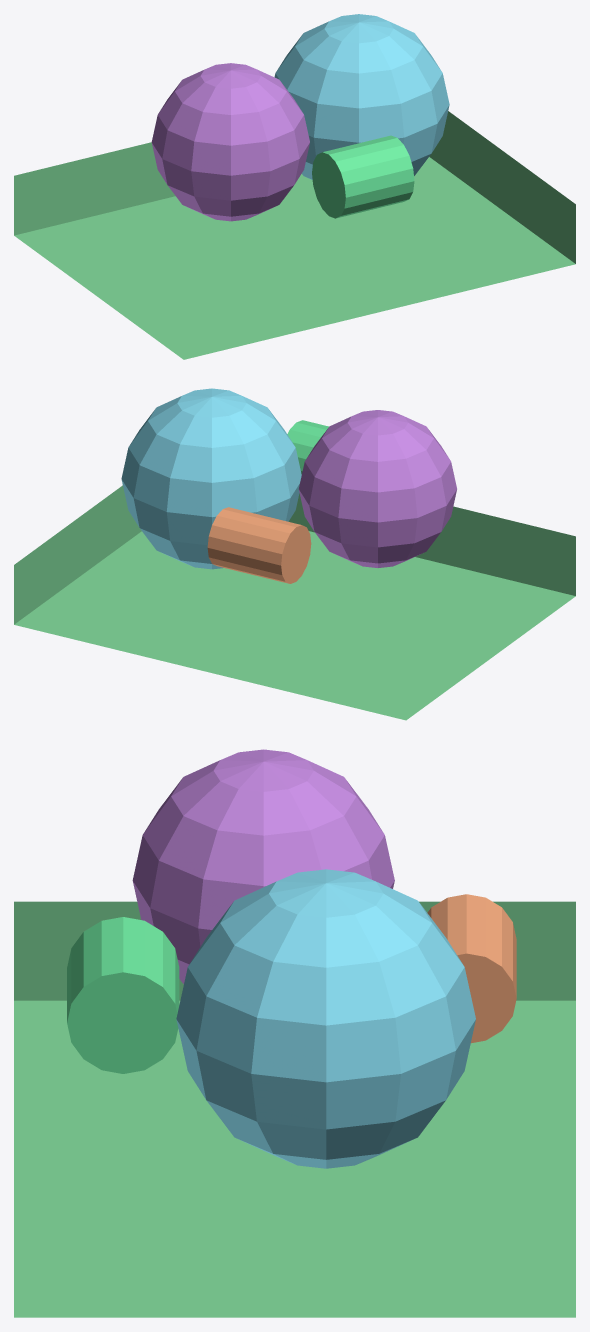
The model's file is plant_cell.glb.
3 renders of one model, top to bottom at view 1: azimuth 30°, elevation 25°; view 2: azimuth 150°, elevation 25°; view 3: azimuth 270°, elevation 25°, orthographic. The views are drawn at different scales.
Visible parts, largest first — view 1: Cell_Wall, Nucleus, Vacuole, Chloroplast; view 2: Cell_Wall, Vacuole, Nucleus, Mitochondria, Chloroplast; view 3: Cell_Wall, Vacuole, Nucleus, Chloroplast, Mitochondria.
Part boxes in pixels (x1,y1,x2,y2): Cell_Wall: (14,111,575,359); Nucleus: (151,63,309,221); Vacuole: (274,14,449,179); Chloroplast: (312,135,414,218); Cell_Wall: (14,485,575,720); Vacuole: (121,388,301,569); Nucleus: (298,410,456,567); Mitochondria: (207,507,311,583); Chloroplast: (287,420,328,474); Cell_Wall: (14,901,575,1317); Vacuole: (176,869,475,1168); Nucleus: (132,749,394,983); Chloroplast: (67,917,179,1073); Mitochondria: (427,894,516,1043).
Size of the model in its own units: 2.4 by 1.19 by 1.8.
